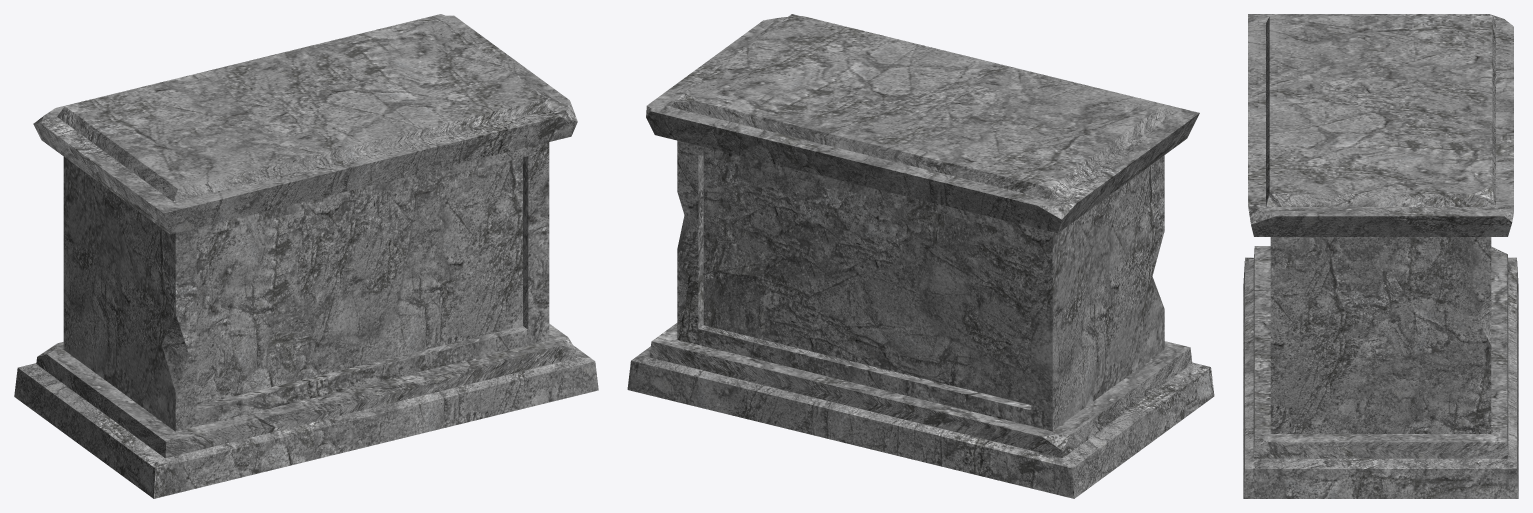
The model's file is materials_3_pedestal_0.fbx.
3 renders of one model, left to right at view 1: azimuth 30°, elevation 25°; view 2: azimuth 150°, elevation 25°; view 3: azimuth 270°, elevation 25°, orthographic.
Parts seen in each view (by area): view 1: materials_3_pedestal_0; view 2: materials_3_pedestal_0; view 3: materials_3_pedestal_0.
Part boxes in pixels (box(x1,y1,x2,y2)): materials_3_pedestal_0: box(14, 14, 598, 498); materials_3_pedestal_0: box(627, 14, 1214, 498); materials_3_pedestal_0: box(1243, 14, 1518, 498).
Size of the model in its own units: 125 by 77.86 by 67.67.
